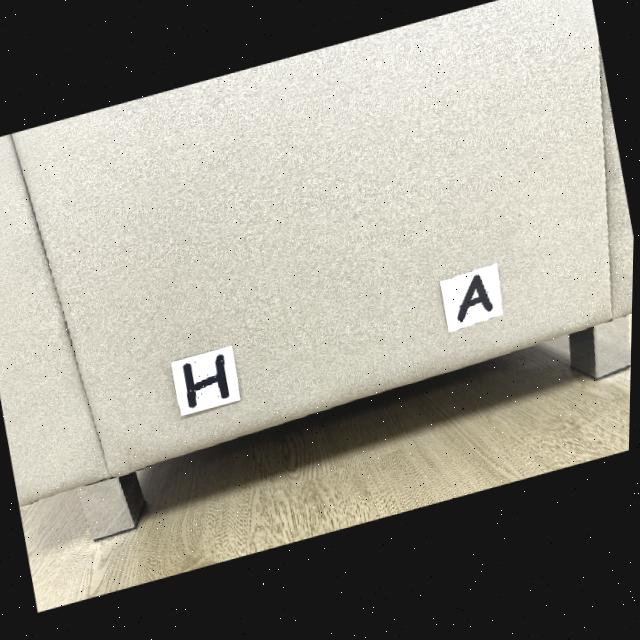A: (460, 283, 495, 330)
H: (184, 358, 232, 411)
